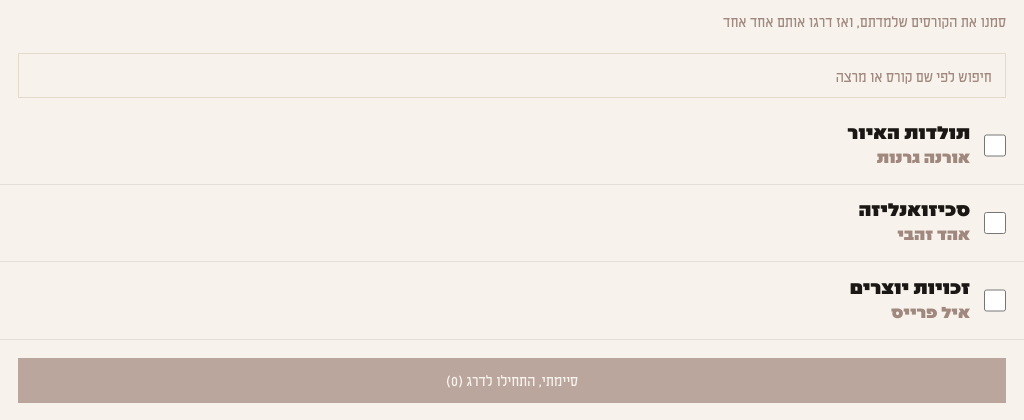
Test: CourseChecklist › filters by search term across name and lecturer
The image size is (1024, 420).
In the search field with placeholder "חיפוש לפי שם קורס או מרצה": (512, 76) 18,53 -> 1006,98, type "זכויות"
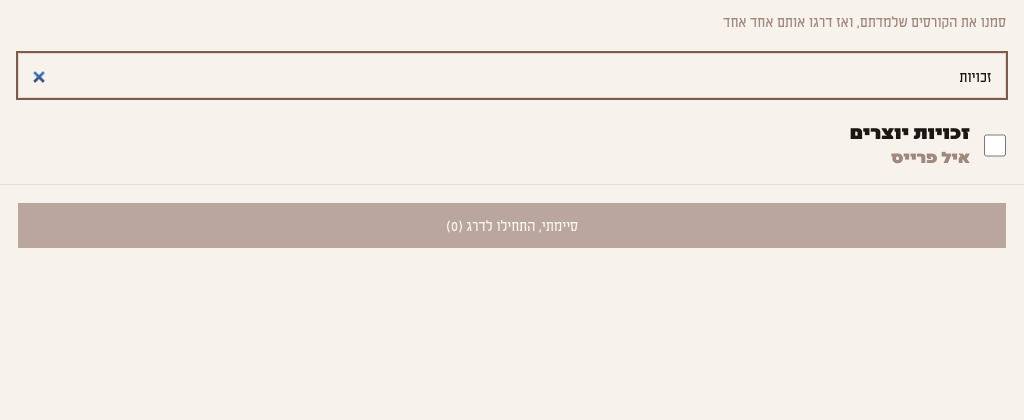
Check: the text "זכויות יוצרים" is shown, box 850,126 -> 970,142
Check: the text "תולדות האיור" is gone
